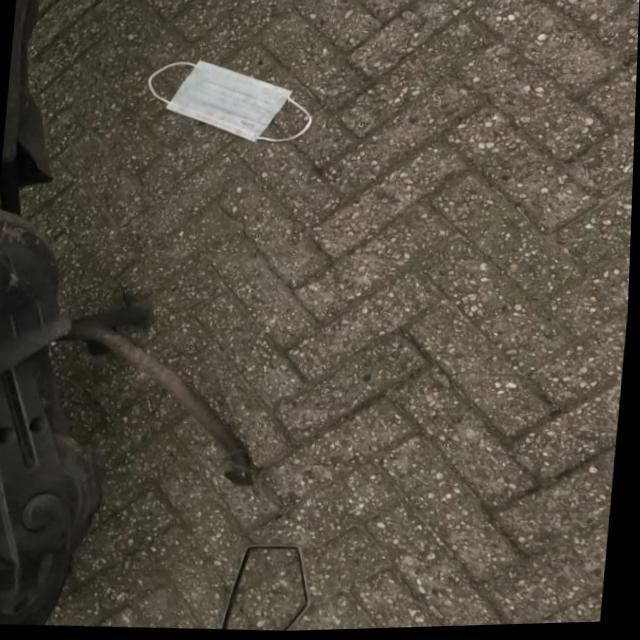Mask: (141, 53, 317, 152)
